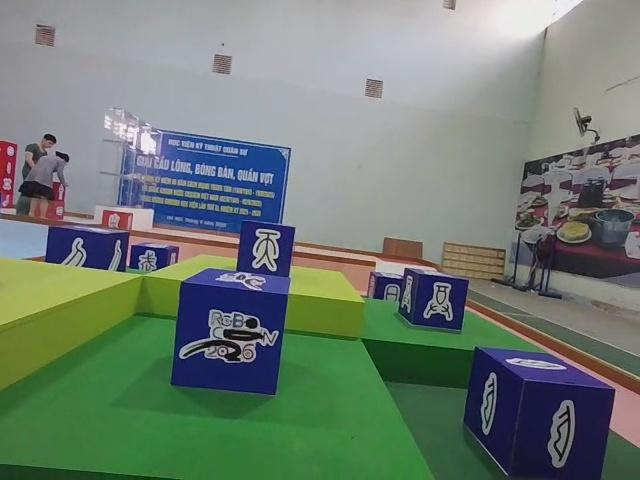R1 Blue: (171, 269, 291, 396)
R2 Fake Blue: (235, 220, 296, 279), (129, 242, 180, 272), (367, 271, 405, 301)
R2 Real Blue: (465, 348, 613, 479), (399, 268, 469, 333), (45, 225, 131, 273)
